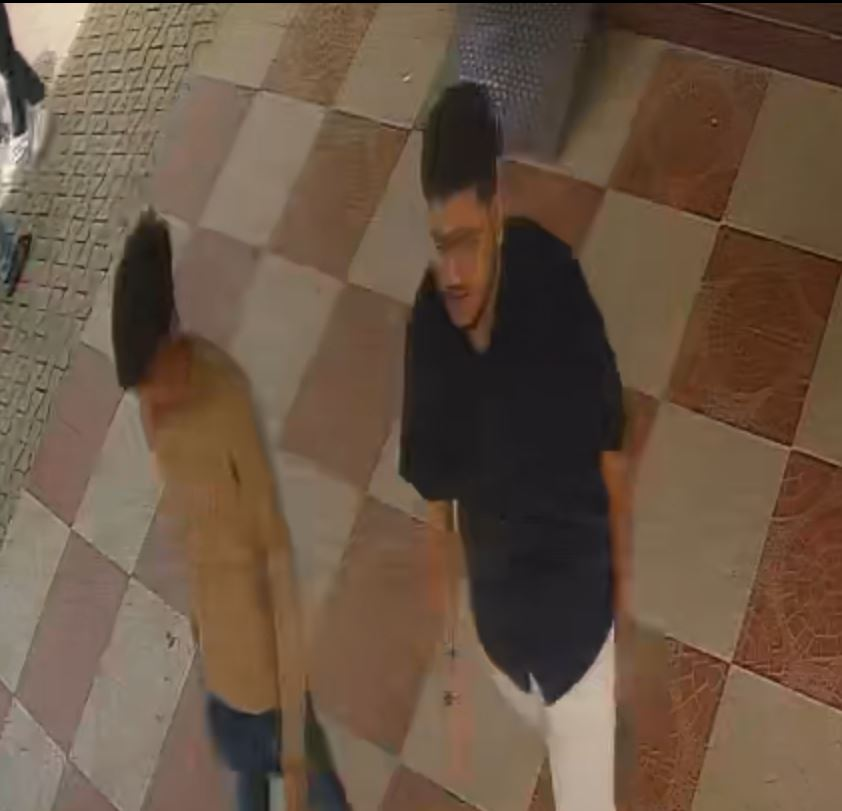intruder: (392, 77, 651, 811), (96, 205, 359, 811)
